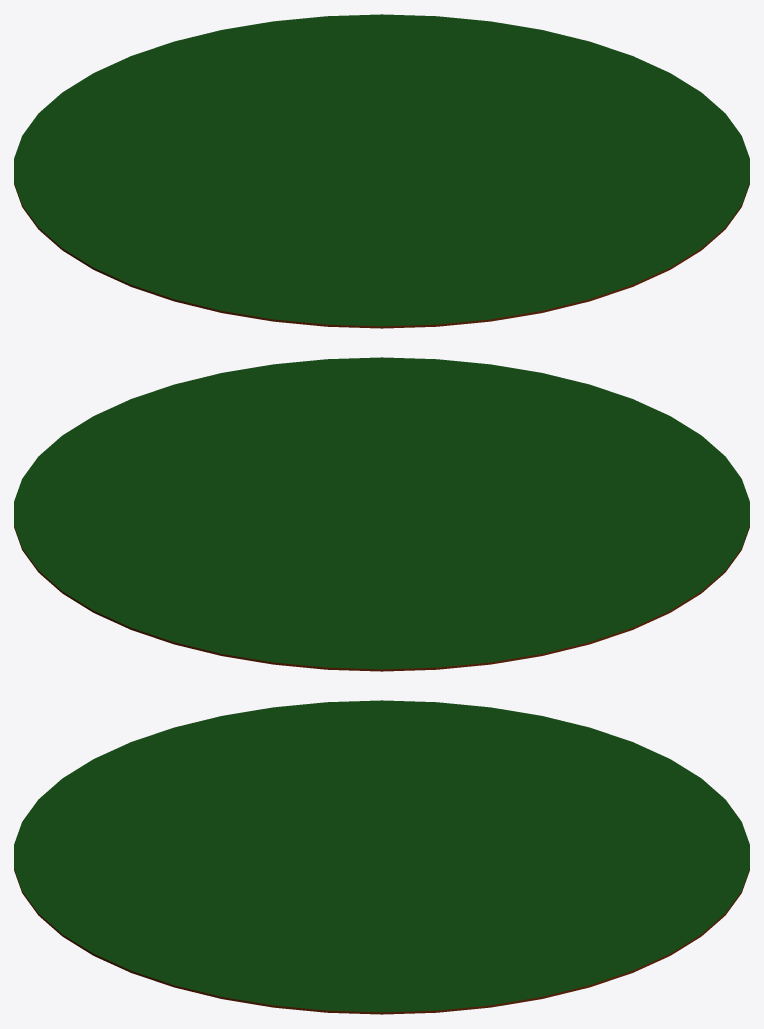
File: geom_Ring_12m.fbx
3 renders of one model, top to bottom at view 1: azimuth 30°, elevation 25°; view 2: azimuth 150°, elevation 25°; view 3: azimuth 270°, elevation 25°, orthographic.
Visible parts, largest first — view 1: geom_Ring_12m; view 2: geom_Ring_12m; view 3: geom_Ring_12m.
Boxes of the visible parts, box(x1,y1,x2,y2) form: geom_Ring_12m: box(14, 14, 749, 328); geom_Ring_12m: box(14, 357, 749, 671); geom_Ring_12m: box(14, 700, 749, 1014).
Bounding box in the file's own units: 120 × 0.3884 × 120.
